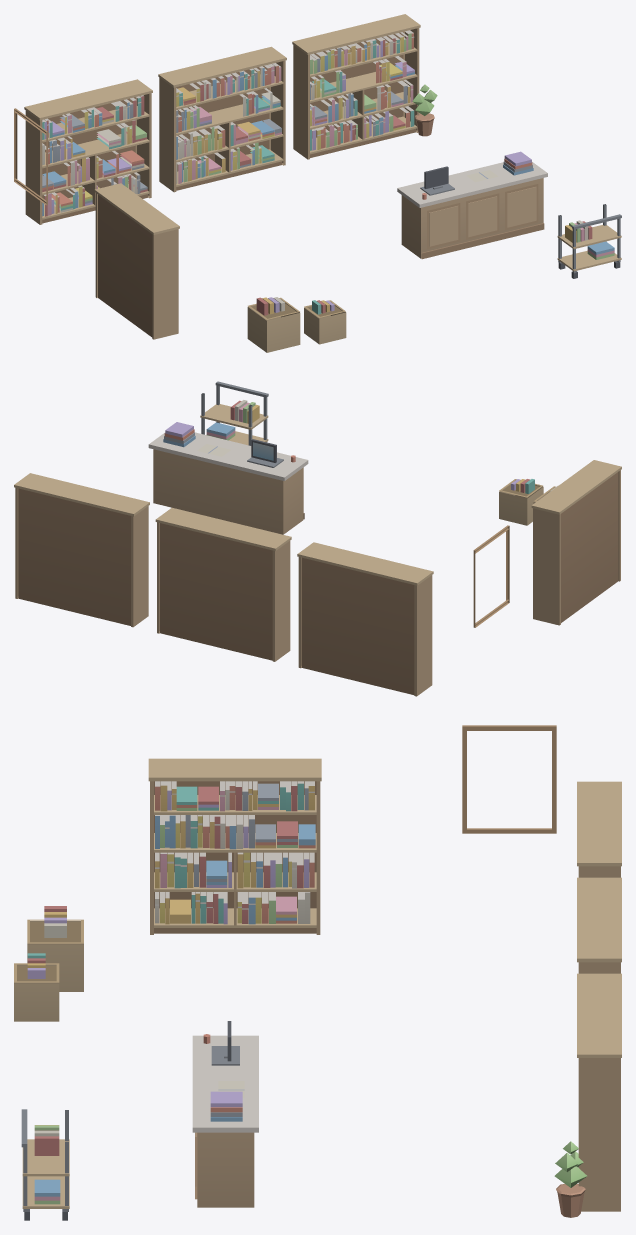
File: spbt_interior_props.glb
The picture shows the model from 3 angles, top to bottom: view 1: azimuth 30°, elevation 25°; view 2: azimuth 150°, elevation 25°; view 3: azimuth 270°, elevation 25°; orthographic projection. The views are drawn at different scales.
Parts seen in each view (by area): view 1: rak_teks_2, rak_teks_3, rak_teks_1, kaunter_spbt, rak_teks_4, troli_buku, kotak_buku_1, kotak_buku_2, pasu_1, lalu_bingkai; view 2: rak_teks_1, rak_teks_2, rak_teks_3, kaunter_spbt, rak_teks_4, troli_buku, kotak_buku_2, lalu_bingkai; view 3: rak_teks_4, kaunter_spbt, rak_teks_3, rak_teks_1, rak_teks_2, troli_buku, kotak_buku_1, kotak_buku_2, lalu_bingkai, pasu_1.
Boxes of the visible parts, bbox=[...] form: rak_teks_2: bbox=[158, 46, 286, 192]; rak_teks_3: bbox=[292, 14, 420, 159]; rak_teks_1: bbox=[24, 79, 152, 224]; kaunter_spbt: bbox=[397, 151, 547, 259]; rak_teks_4: bbox=[94, 183, 179, 339]; troli_buku: bbox=[557, 204, 621, 278]; kotak_buku_1: bbox=[247, 297, 300, 352]; kotak_buku_2: bbox=[304, 300, 346, 344]; pasu_1: bbox=[412, 84, 437, 136]; lalu_bingkai: bbox=[14, 108, 47, 205]; rak_teks_1: bbox=[297, 542, 433, 696]; rak_teks_2: bbox=[155, 507, 291, 661]; rak_teks_3: bbox=[14, 473, 149, 627]; kaunter_spbt: bbox=[148, 422, 308, 534]; rak_teks_4: bbox=[531, 460, 621, 625]; troli_buku: bbox=[200, 381, 268, 445]; kotak_buku_2: bbox=[499, 479, 543, 525]; lalu_bingkai: bbox=[473, 525, 509, 627]; rak_teks_4: bbox=[148, 758, 321, 934]; kaunter_spbt: bbox=[192, 1021, 258, 1207]; rak_teks_3: bbox=[577, 973, 621, 1211]; rak_teks_1: bbox=[577, 781, 621, 877]; rak_teks_2: bbox=[577, 877, 621, 973]; troli_buku: bbox=[21, 1109, 69, 1220]; kotak_buku_1: bbox=[27, 906, 83, 991]; kotak_buku_2: bbox=[14, 953, 59, 1021]; lalu_bingkai: bbox=[462, 725, 556, 833]; pasu_1: bbox=[554, 1141, 586, 1217].
Size of the model in its own units: 7.66 by 2.22 by 6.43.
